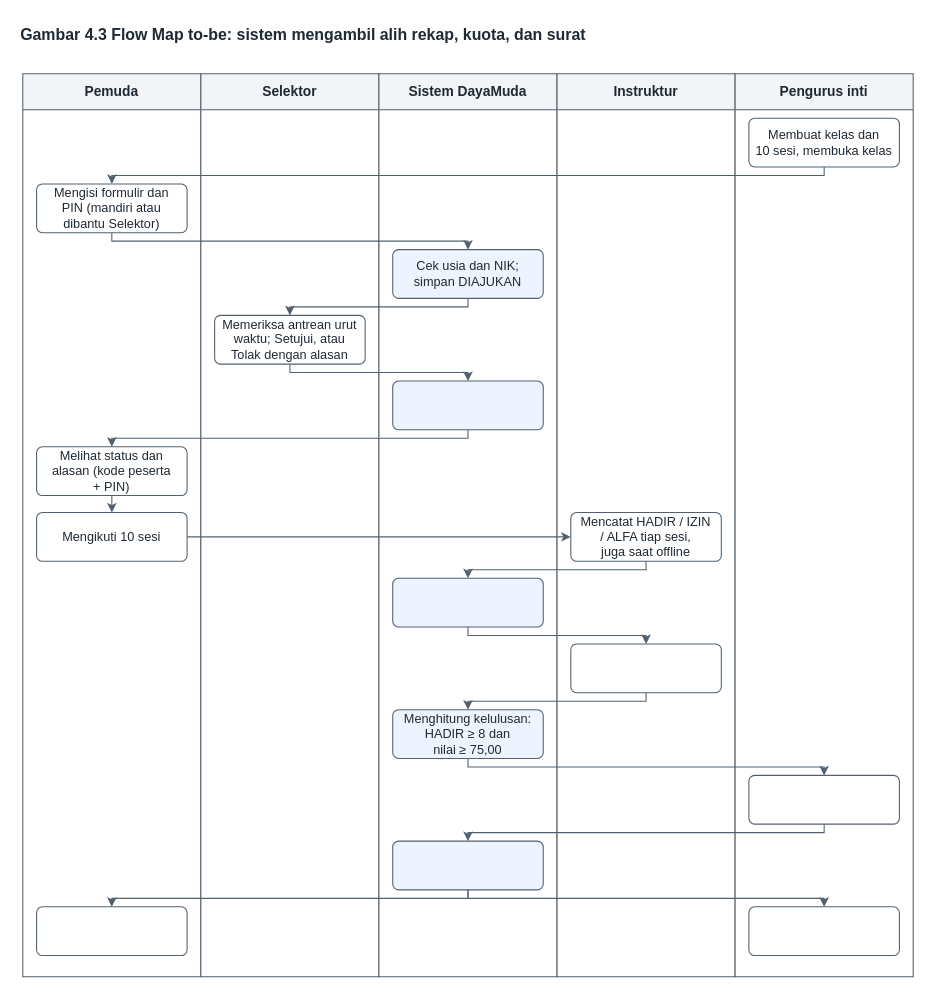
Some shapes in this 935 by 995 pixel diagram are drawn without their labels. Each missing label, with the centre of its shape:
"Kunci kuota; peserta ke-30 menutup kelas, sisa ditolak otomatis" goes at (x=467, y=405).
"Menerbitkan PDF bernomor dengan total JP" goes at (x=467, y=865).
"Meneruskan laporan ringkas tanpa NIK ke desa" goes at (x=823, y=931).
"Mengisi nilai uji praktik di sesi 10" goes at (x=645, y=668).
"Mengunduh surat" goes at (x=111, y=931).
"Meninjau rekap dan mengesahkan" goes at (x=823, y=799).
"Menyimpan presensi di HP, mengirim saat ada sinyal tanpa dobel" goes at (x=467, y=602).
